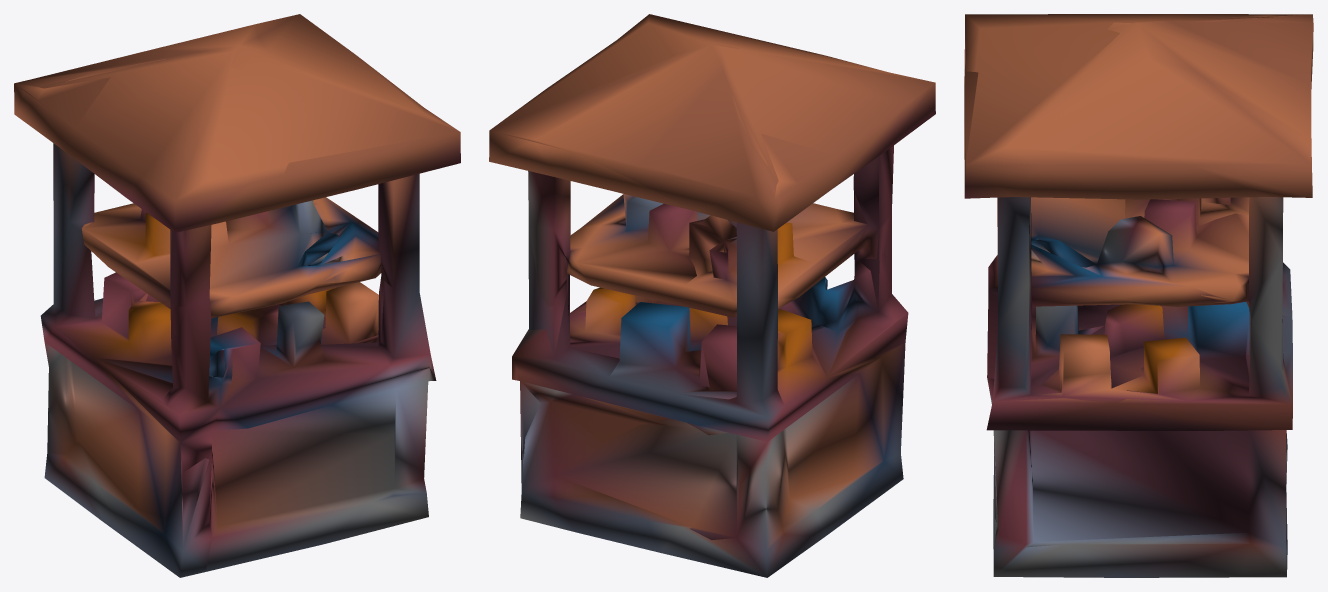
Rendered from gen3d-mall-kiosk-lod1.glb.
3 renders of one model, left to right at view 1: azimuth 30°, elevation 25°; view 2: azimuth 150°, elevation 25°; view 3: azimuth 270°, elevation 25°, orthographic. The views are drawn at different scales.
Visible parts, largest first — view 1: part_0; view 2: part_0; view 3: part_0.
Boxes of the visible parts, x1,y1,x2,y2 form: part_0: (14,14,460,577); part_0: (489,14,935,577); part_0: (964,14,1313,577).
Size of the model in its own units: 0.6602 by 0.9996 by 0.6452.
